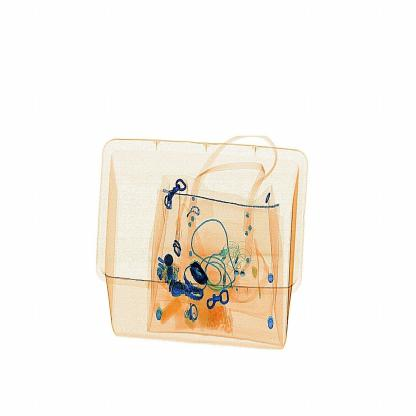scissors: (185, 252, 218, 296)
